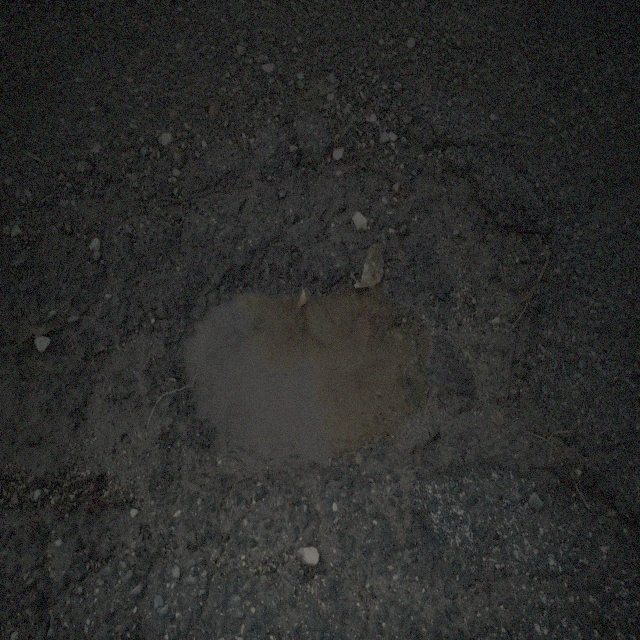pothole: (153, 123, 490, 498)
